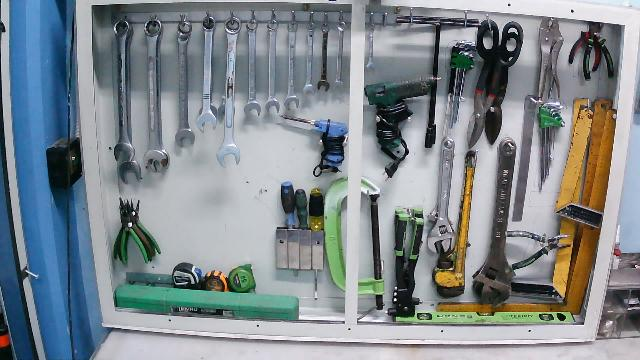tang_kombinasi: (504, 228, 574, 273)
